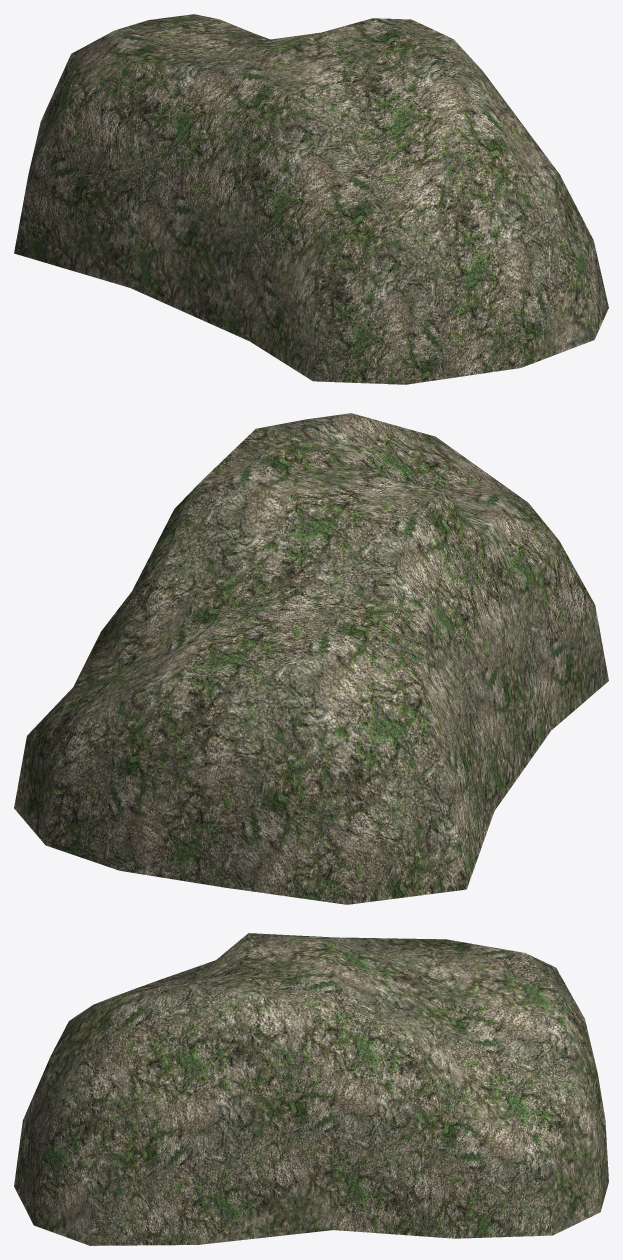
Rendered from Rock 1.fbx.
3 views of the same model, one above another, from view 1: azimuth 30°, elevation 25°; view 2: azimuth 150°, elevation 25°; view 3: azimuth 270°, elevation 25° (orthographic). The views are drawn at different scales.
Visible parts, largest first — view 1: Rock_01_Geo; view 2: Rock_01_Geo; view 3: Rock_01_Geo.
Boxes of the visible parts, x1=… form: Rock_01_Geo: x1=14, y1=14, x2=608, y2=384; Rock_01_Geo: x1=14, y1=413, x2=608, y2=904; Rock_01_Geo: x1=14, y1=933, x2=608, y2=1245.
Size of the model in its own units: 21.6 by 12.47 by 30.23.
